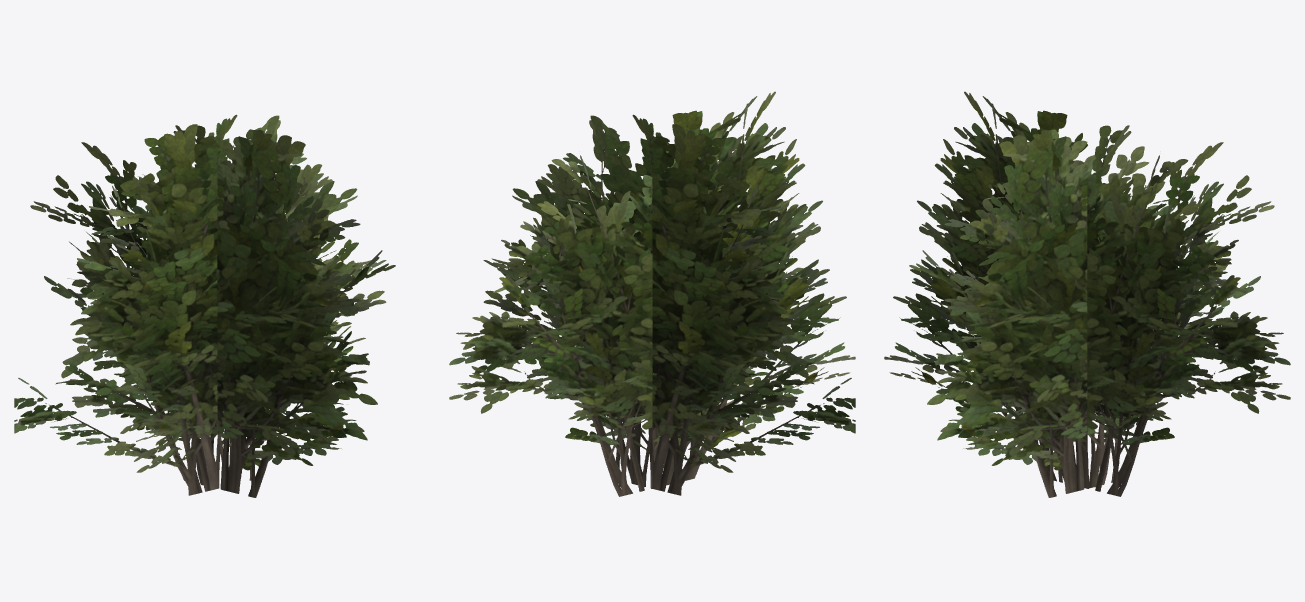
File: liska_3_daleko.glb
3 renders of one model, left to right at view 1: azimuth 30°, elevation 25°; view 2: azimuth 150°, elevation 25°; view 3: azimuth 270°, elevation 25°, orthographic.
Visible parts, largest first — view 1: liska_3_daleko; view 2: liska_3_daleko; view 3: liska_3_daleko.
Boxes of the visible parts, x1,y1,x2,y2 form: liska_3_daleko: (14,114,395,497); liska_3_daleko: (449,91,855,496); liska_3_daleko: (884,91,1290,497).
Size of the model in its own units: 4.11 by 3.64 by 3.56.
Materials: 3 (3 with a texture image).
